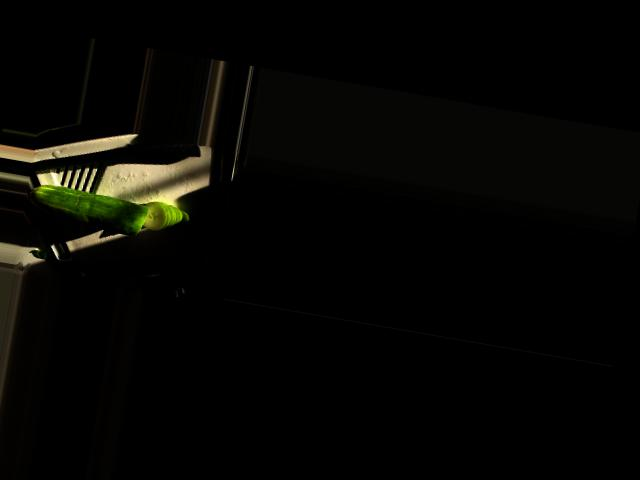cucumber: (26, 181, 151, 237)
